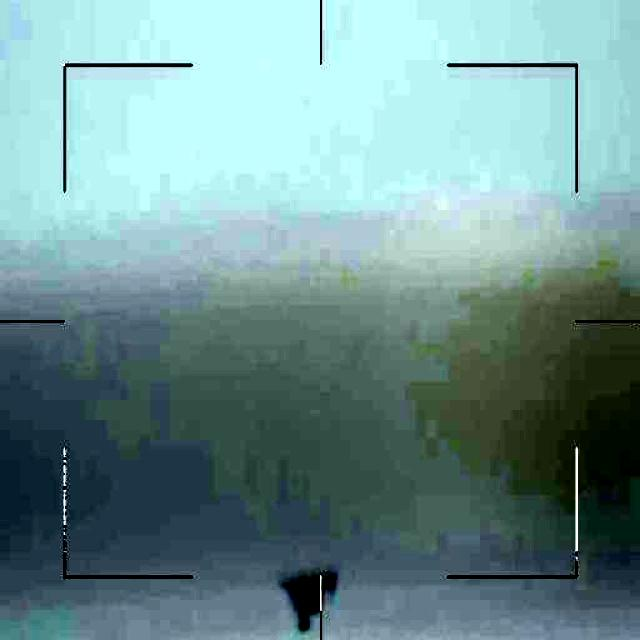bird: (280, 560, 346, 632)
